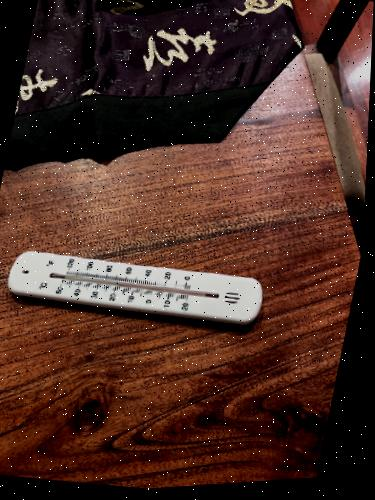thermo: (5, 243, 263, 325)
